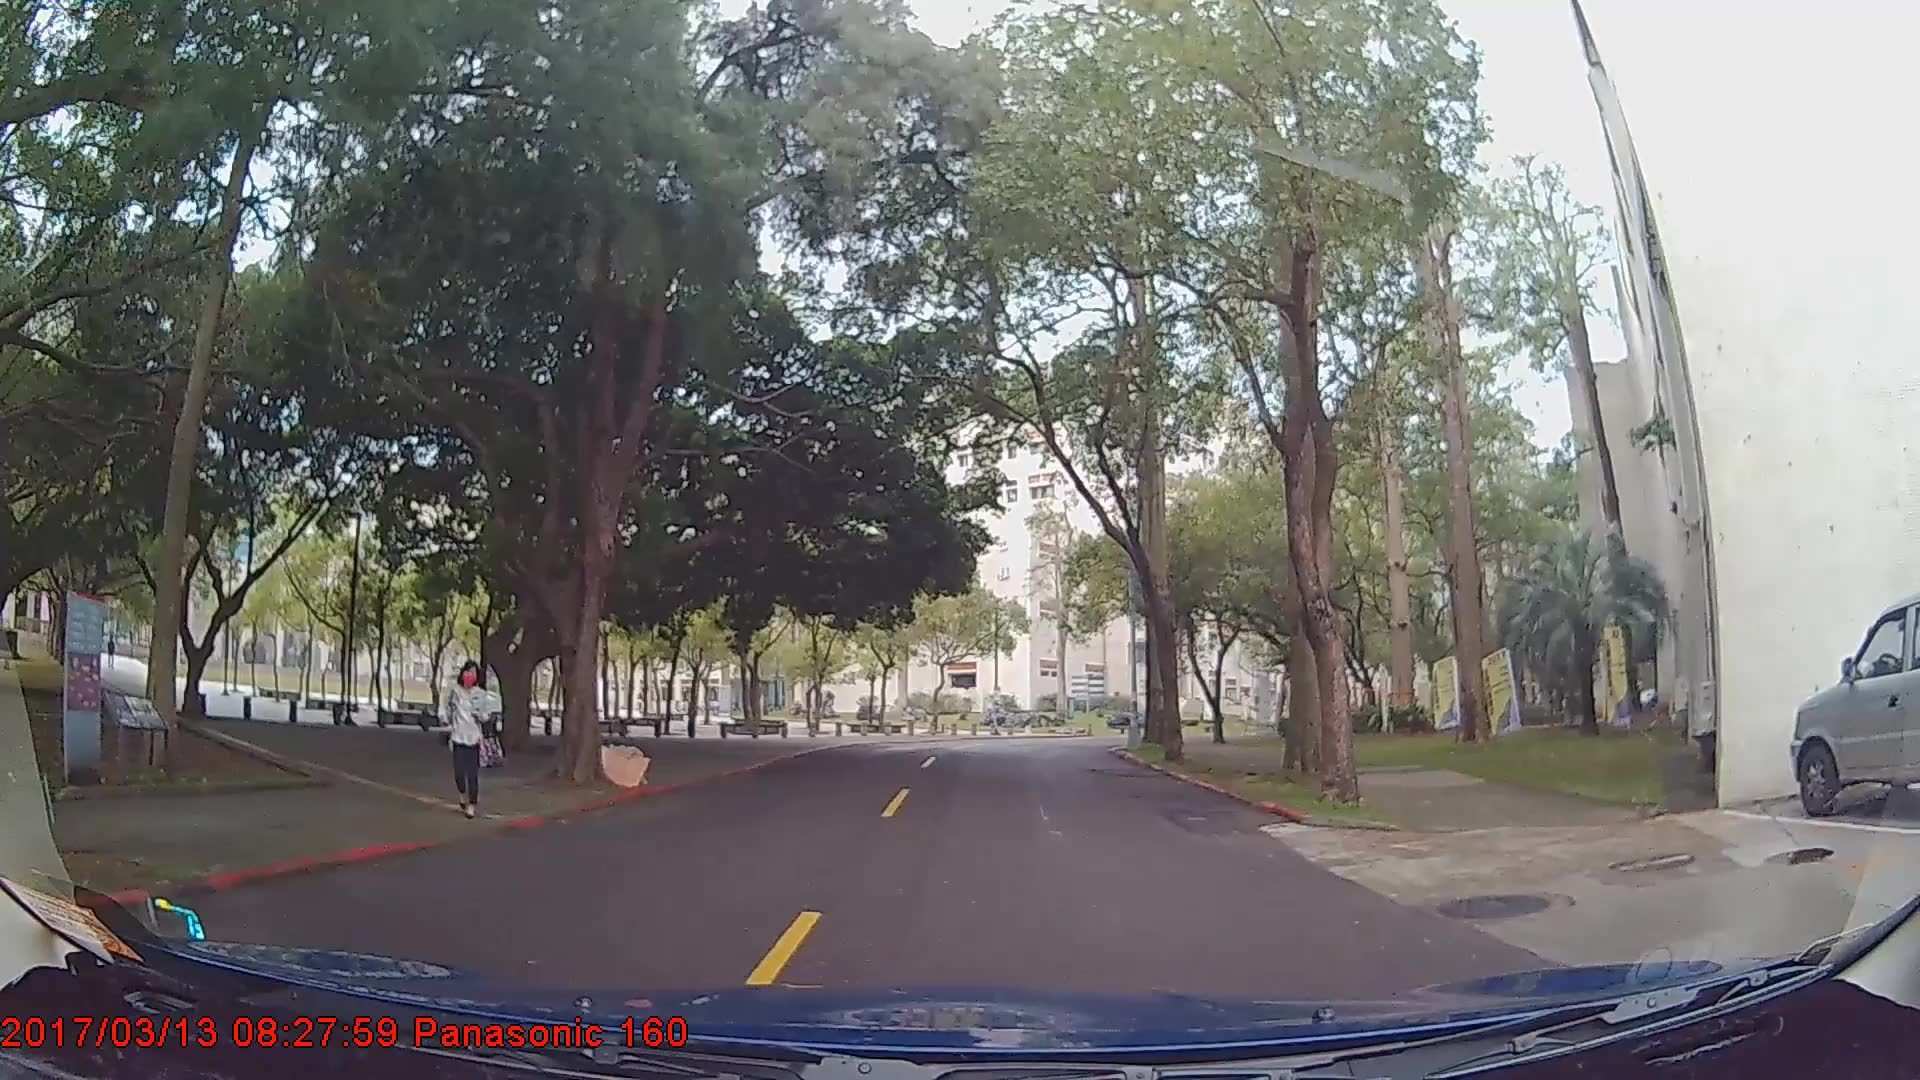pedestrian: (437, 658, 507, 818)
vehicle: (1790, 590, 1920, 819)
